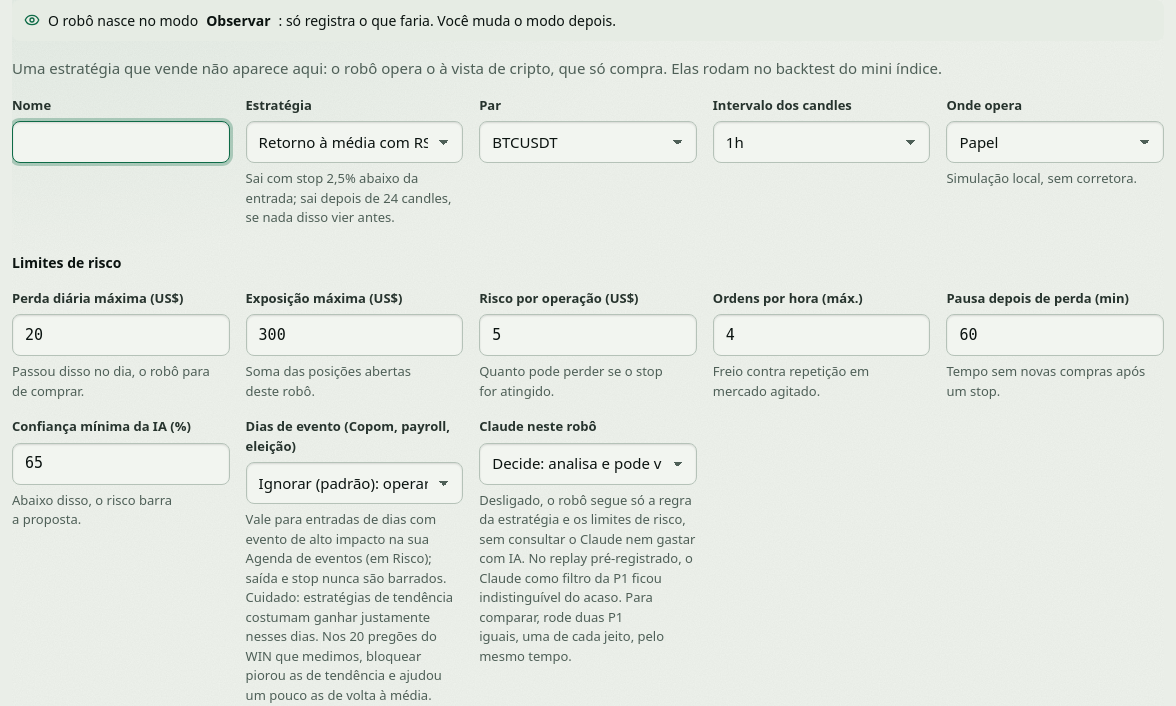
criar robô › cofre de tendência: explica o tamanho por alocação e que foi estudado em velas de 4 h
Expected: the text "foi estudada em velas de 4 h" is not shown
Select "Cofre de tendência (SMA 400) (versão 1)" in the dropdown labelled "Estratégia": (354, 142) [246,121,463,163]
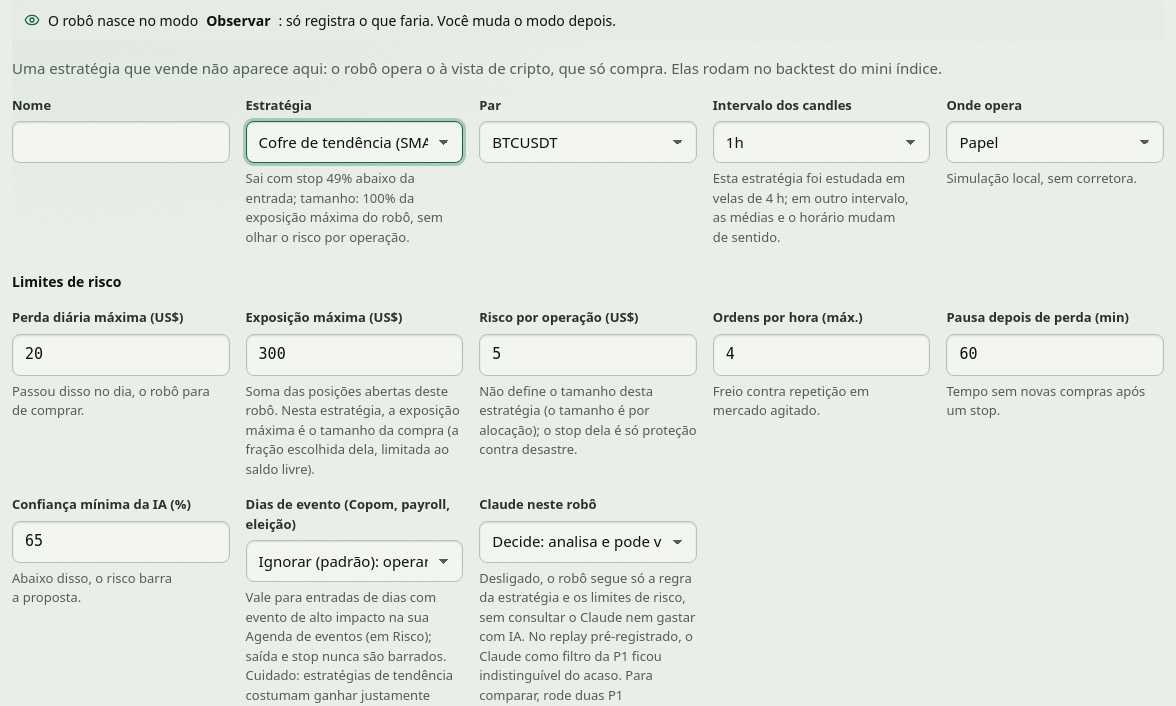
Result: the text "100% da exposição máxima do robô, sem olhar o risco por operação" is shown at [246,169,443,246]
Result: the text "foi estudada em velas de 4 h" is shown at [713,169,909,246]
Result: the text "a exposição máxima é o tamanho da compra" is shown at [246,382,460,478]
